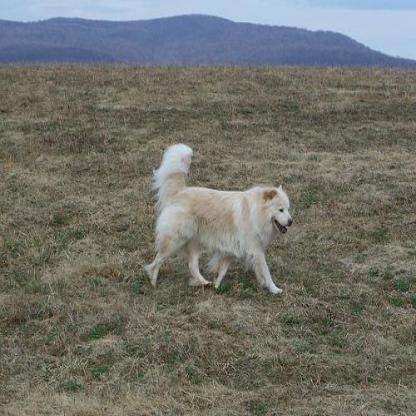Samoyed: (142, 140, 294, 297)
